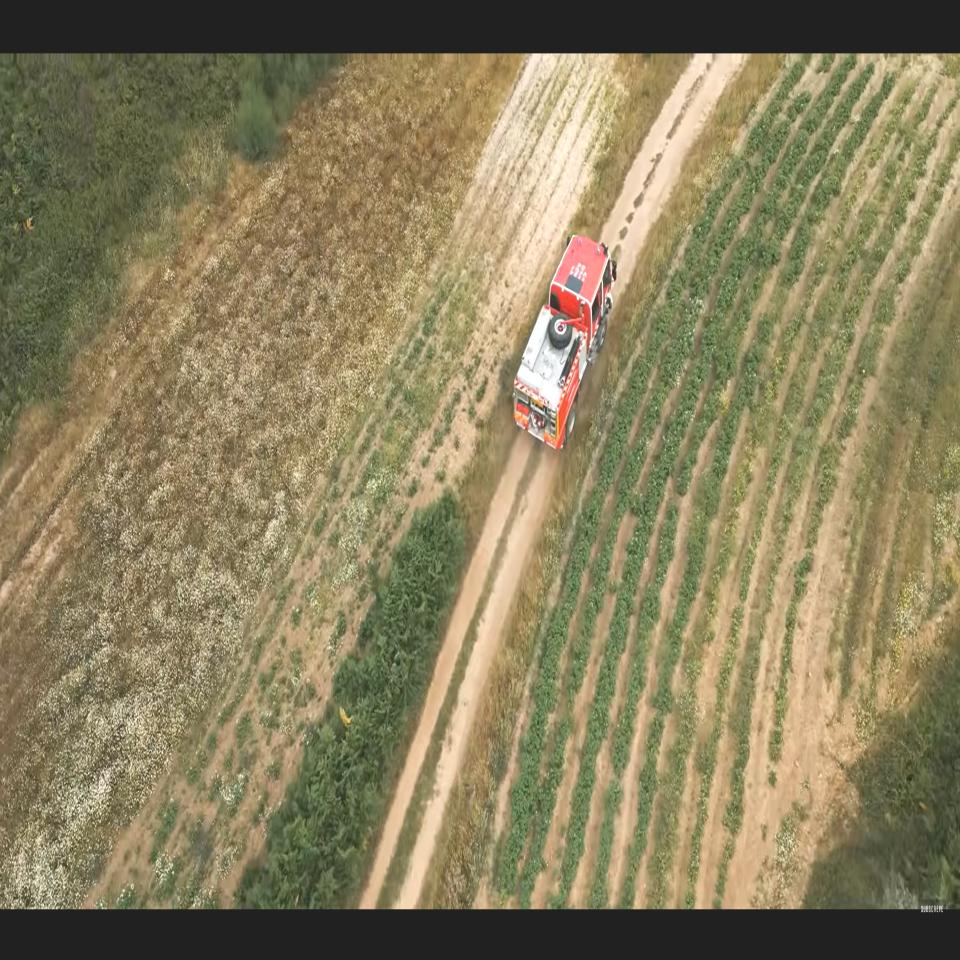bombeiro: (512, 232, 618, 452)
